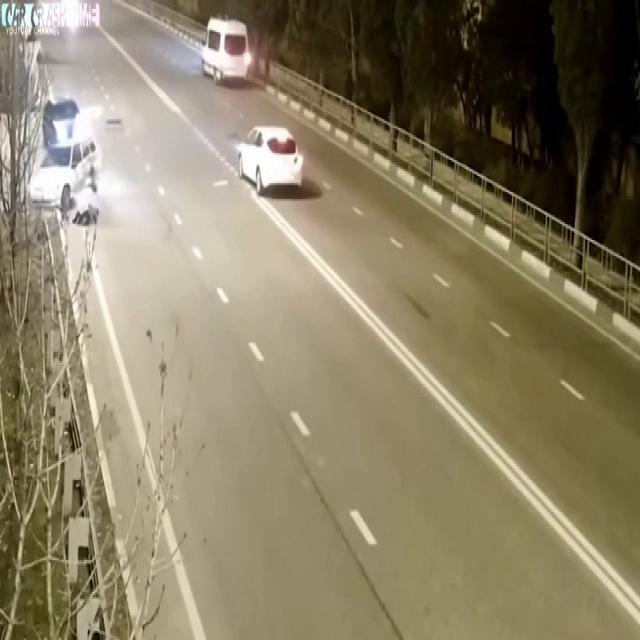accident: (12, 81, 114, 220)
